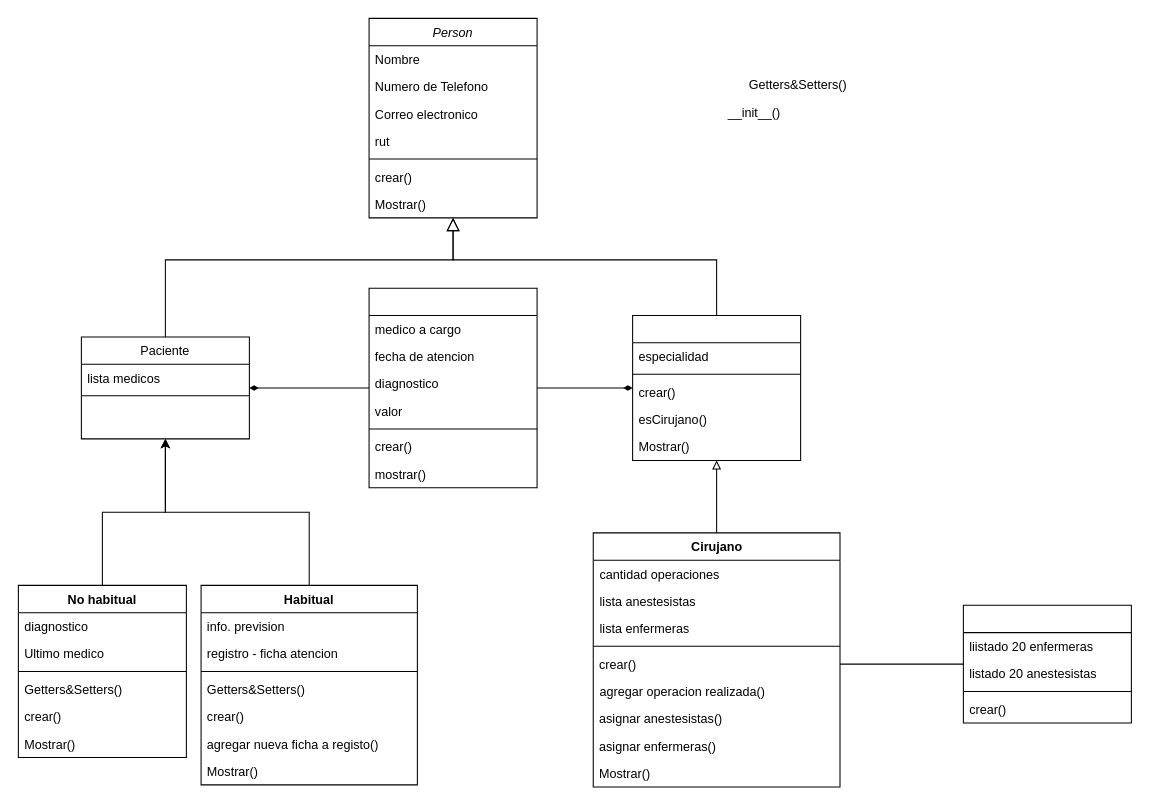
The diagram is 1150 pixels wide and 808 high, and some of its shapes have lost their labels. Each missing label, with the box of its shape:
Archivo configuraciones: (962, 604, 1131, 723)
Ficha atencion: (368, 287, 537, 488)
Medico: (632, 314, 801, 460)
